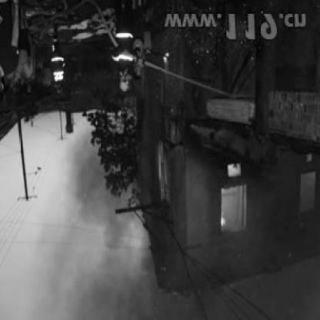Fire: (213, 157, 247, 239), (159, 53, 175, 107)
